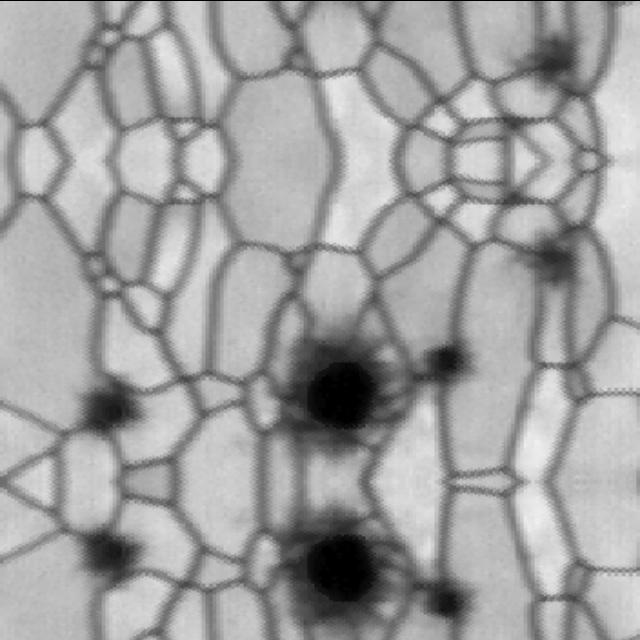good_void: (277, 294, 424, 480), (277, 482, 424, 640), (519, 223, 592, 300), (519, 18, 592, 95), (420, 323, 487, 406), (420, 555, 487, 638), (77, 512, 150, 583), (77, 379, 150, 449)
